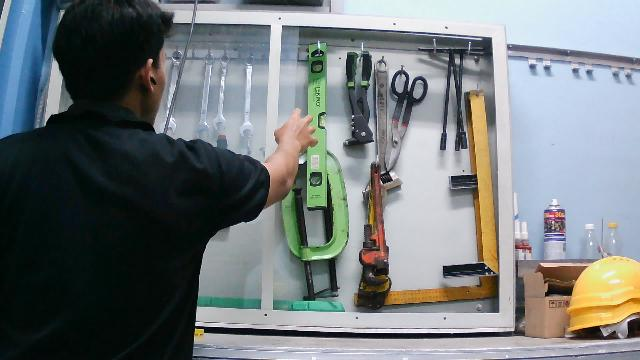water_pass: (303, 38, 331, 216)
